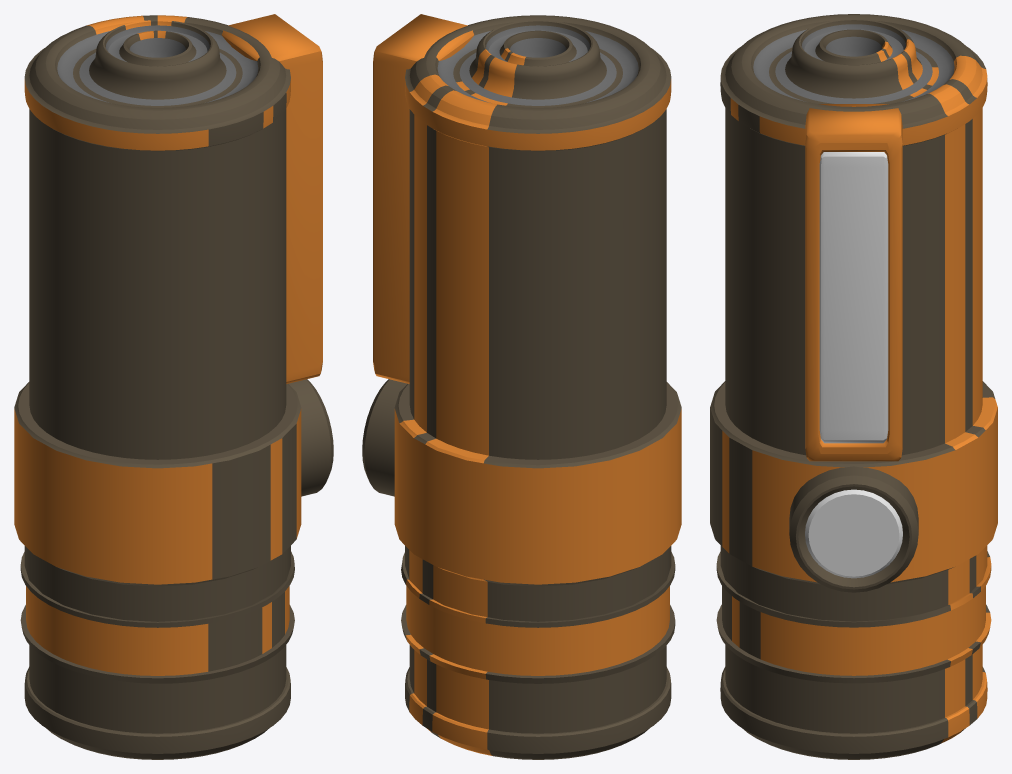
The model's file is jetpackcolour.fbx.
The picture shows the model from 3 angles, left to right: view 1: azimuth 30°, elevation 25°; view 2: azimuth 150°, elevation 25°; view 3: azimuth 270°, elevation 25°; orthographic projection.
Visible parts, largest first — view 1: Cylinder.004, Cube.004, Cylinder.003; view 2: Cylinder.004, Cube.004, Cylinder.003; view 3: Cylinder.004, Cube.002, Cube.004, Cylinder.014, Cylinder.003.
Part boxes in pixels (<box>): Cylinder.004: <box>14,15,301,759</box>; Cube.004: <box>222,14,322,383</box>; Cylinder.003: <box>288,379,333,496</box>; Cylinder.004: <box>394,15,681,759</box>; Cube.004: <box>373,14,473,383</box>; Cylinder.003: <box>362,379,407,496</box>; Cylinder.004: <box>710,14,997,759</box>; Cube.002: <box>819,152,888,443</box>; Cube.004: <box>805,104,902,461</box>; Cylinder.014: <box>805,489,902,578</box>; Cylinder.003: <box>789,466,918,592</box>.
Bounding box in the file's own units: 43.68 × 106 × 40.05.
